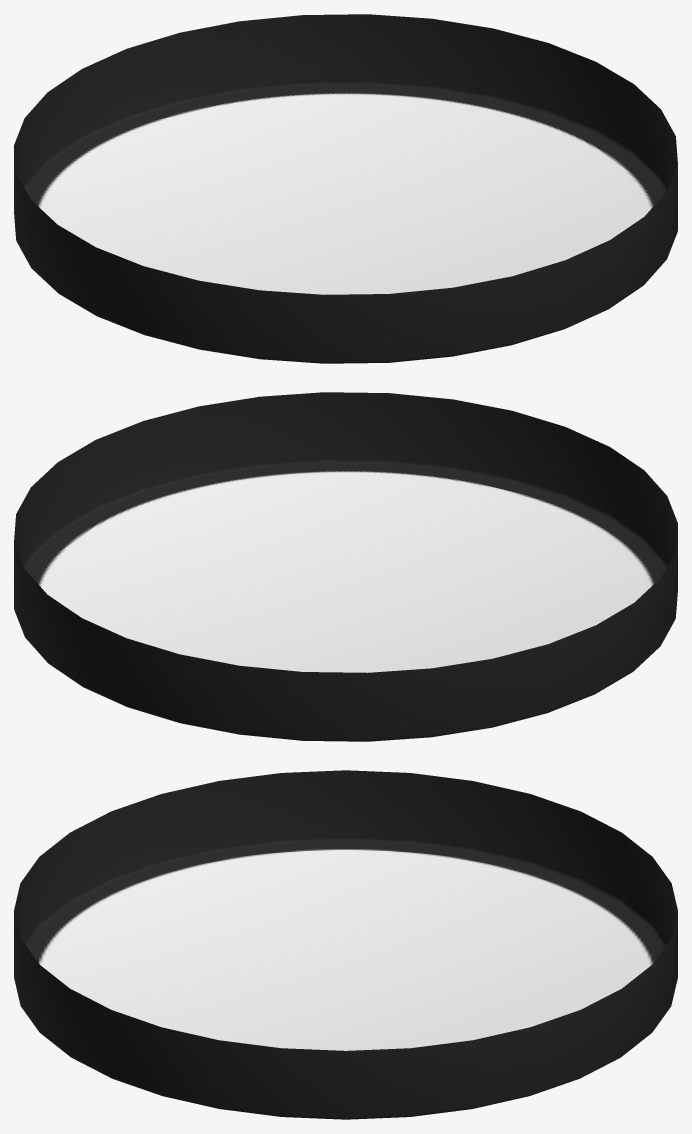
File: ceiling lamp round big.FBX
3 views of the same model, one above another, from view 1: azimuth 30°, elevation 25°; view 2: azimuth 150°, elevation 25°; view 3: azimuth 270°, elevation 25° (orthographic).
Visible parts, largest first — view 1: ceiling lamp round big; view 2: ceiling lamp round big; view 3: ceiling lamp round big.
Boxes of the visible parts, left/top/right/bottom form: ceiling lamp round big: left=14, top=14, right=677, bottom=363; ceiling lamp round big: left=14, top=392, right=677, bottom=741; ceiling lamp round big: left=14, top=770, right=677, bottom=1119.
Bounding box in the file's own units: 16.53 × 16.53 × 1.92.
Materials: 1 (1 with a texture image).
